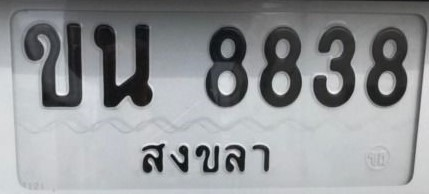txt02: (22, 20, 85, 111)
txt20: (92, 22, 155, 110)
